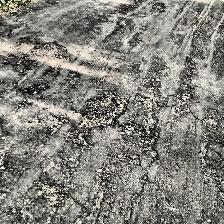pothole: (78, 92, 124, 130), (30, 41, 68, 59), (150, 2, 166, 14)
